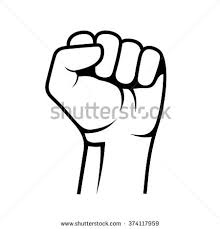fist: (54, 34, 172, 134)
